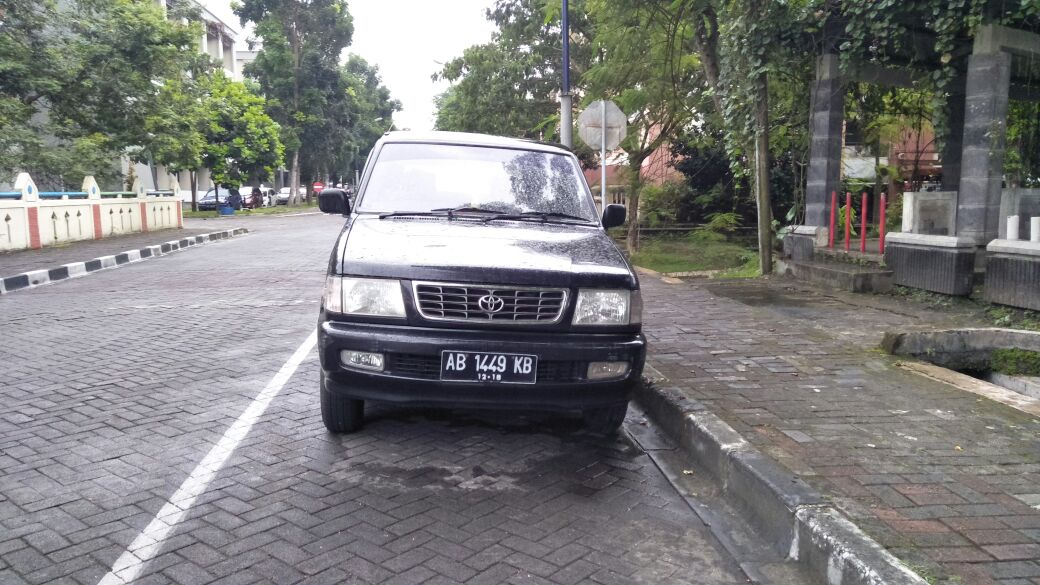plate: (438, 347, 539, 387)
